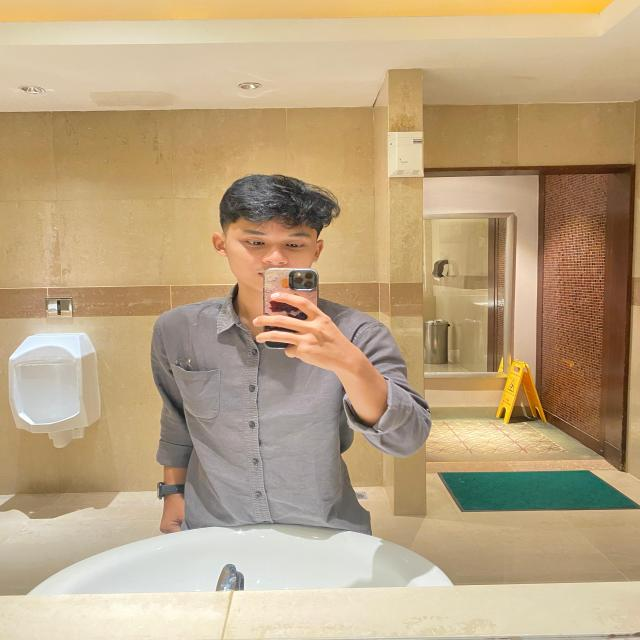nohelmet: (214, 174, 335, 288)
